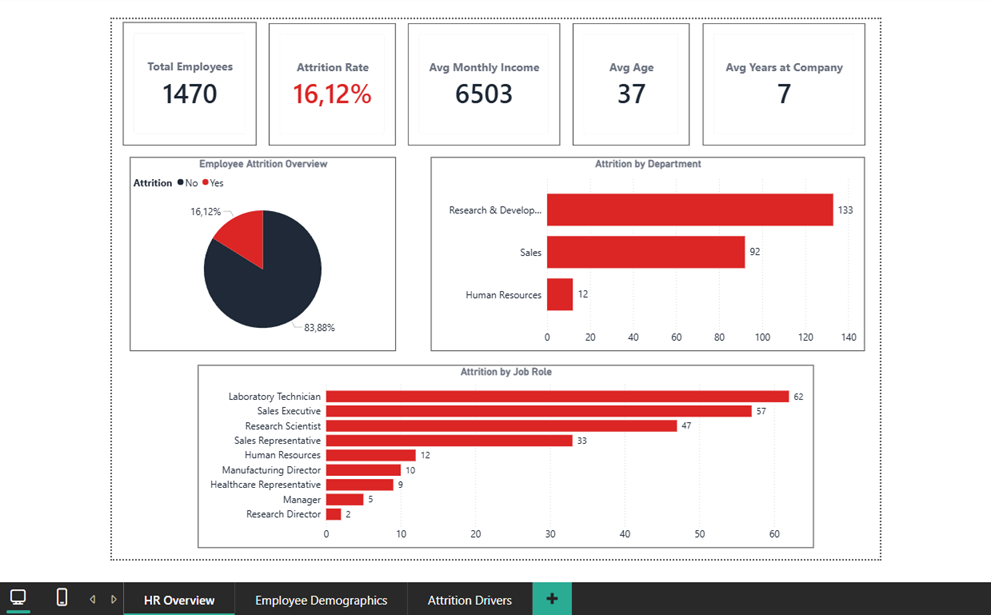

What the dashboard file says about the page in this screenshot:
{"tool":"powerbi","page":{"name":"HR Overview","canvas":[1280,900],"ordinal":0},"visuals":[{"type":"cardVisual","fields":{"Data":["HR Employee Attrition Analysis.Total Employees"]},"box":[18.7,4.7,222.4,205.3],"z":0},{"type":"cardVisual","fields":{"Data":["HR Employee Attrition Analysis.Attrition Rate"]},"box":[261.2,6.2,211.5,203.7],"z":1000},{"type":"cardVisual","fields":{"Data":["HR Employee Attrition Analysis.Average Monthly Income"]},"box":[492.9,6.2,253.5,203.7],"z":2000},{"type":"cardVisual","fields":{"Data":["HR Employee Attrition Analysis.Average Age"]},"box":[768.1,6.2,194.4,203.7],"z":3000},{"type":"cardVisual","fields":{"Data":["HR Employee Attrition Analysis.Average Years at Company"]},"box":[984.3,6.2,270.6,203.7],"z":4000},{"type":"pieChart","title":"Employee Attrition Overview","fields":{"Category":["HR Employee Attrition Analysis.Attrition"],"Y":["HR Employee Attrition Analysis.Total Employees"]},"box":[30,230,443.3,323.3],"z":5000},{"type":"clusteredBarChart","title":"Attrition by Department","fields":{"Category":["HR Employee Attrition Analysis.Department"],"Y":["CountNonNull(HR Employee Attrition Analysis.Employee Number)"]},"box":[531.7,230,723.3,323.3],"z":6000},{"type":"clusteredBarChart","title":"Attrition by Job Role","fields":{"Category":["HR Employee Attrition Analysis.Job Role"],"Y":["CountNonNull(HR Employee Attrition Analysis.Employee Number)"]},"box":[143.3,576.7,1026.7,305],"z":7000}]}

Visuals, with their boxes on the page's 1280x900 design canvas (x1, y1, x2, y2). These are canvas units, not pixel positions in the 992x615 screenshot, which may show the page scaled, cropped or inside an application window:
cardVisual - HR Employee Attrition Analysis.Total Employees: box(19, 5, 241, 210)
cardVisual - HR Employee Attrition Analysis.Attrition Rate: box(261, 6, 473, 210)
cardVisual - HR Employee Attrition Analysis.Average Monthly Income: box(493, 6, 746, 210)
cardVisual - HR Employee Attrition Analysis.Average Age: box(768, 6, 962, 210)
cardVisual - HR Employee Attrition Analysis.Average Years at Company: box(984, 6, 1255, 210)
"Employee Attrition Overview" pieChart: box(30, 230, 473, 553)
"Attrition by Department" clusteredBarChart: box(532, 230, 1255, 553)
"Attrition by Job Role" clusteredBarChart: box(143, 577, 1170, 882)
